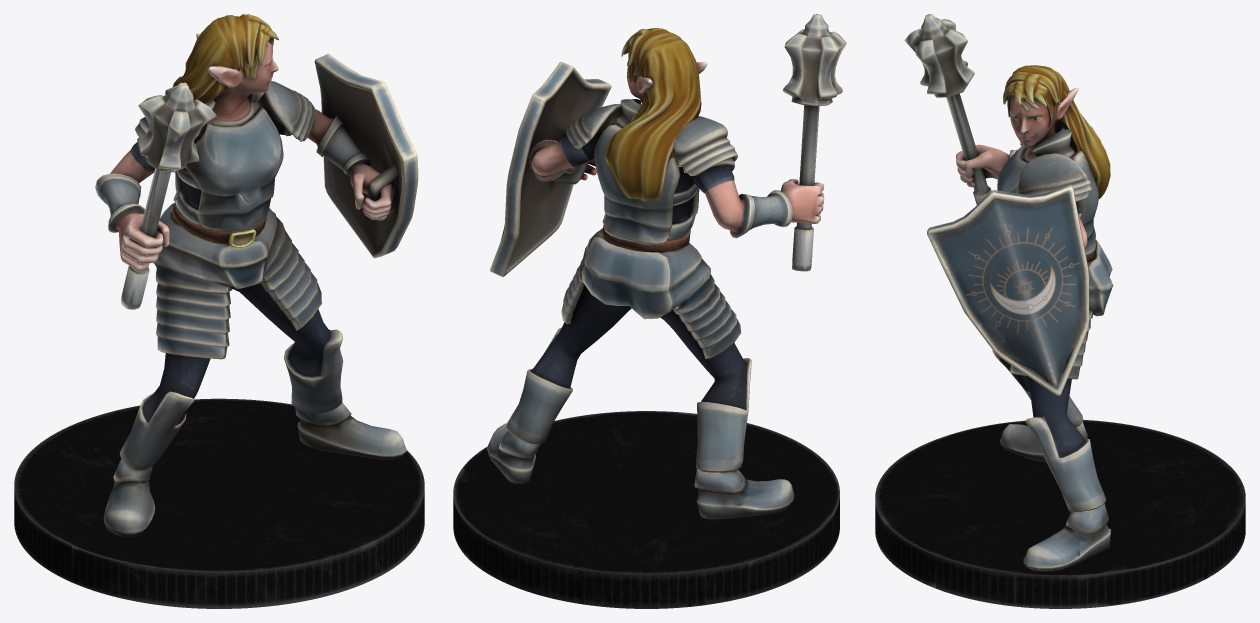
Rendered from MZ4250 - Elf Cleric.glb.
3 views of the same model, side by side, from view 1: azimuth 30°, elevation 25°; view 2: azimuth 150°, elevation 25°; view 3: azimuth 270°, elevation 25° (orthographic). The views are drawn at different scales.
Parts seen in each view (by area): view 1: base_low.001, body_low.001, shield_low.001, mace_low.001; view 2: body_low.001, base_low.001, shield_low.001, mace_low.001; view 3: base_low.001, body_low.001, shield_low.001, mace_low.001.
Part boxes in pixels (bbox=[...]): base_low.001: bbox=[14, 398, 424, 608]; body_low.001: bbox=[95, 14, 406, 537]; shield_low.001: bbox=[314, 54, 418, 258]; mace_low.001: bbox=[121, 82, 216, 309]; body_low.001: bbox=[487, 28, 824, 519]; base_low.001: bbox=[453, 411, 839, 608]; shield_low.001: bbox=[490, 61, 611, 276]; mace_low.001: bbox=[783, 14, 846, 271]; base_low.001: bbox=[875, 420, 1245, 608]; body_low.001: bbox=[956, 65, 1113, 571]; shield_low.001: bbox=[927, 184, 1089, 396]; mace_low.001: bbox=[904, 14, 991, 204].
Size of the model in its own units: 4.55 by 6.34 by 4.55.
Materials: 1 (1 with a texture image).
